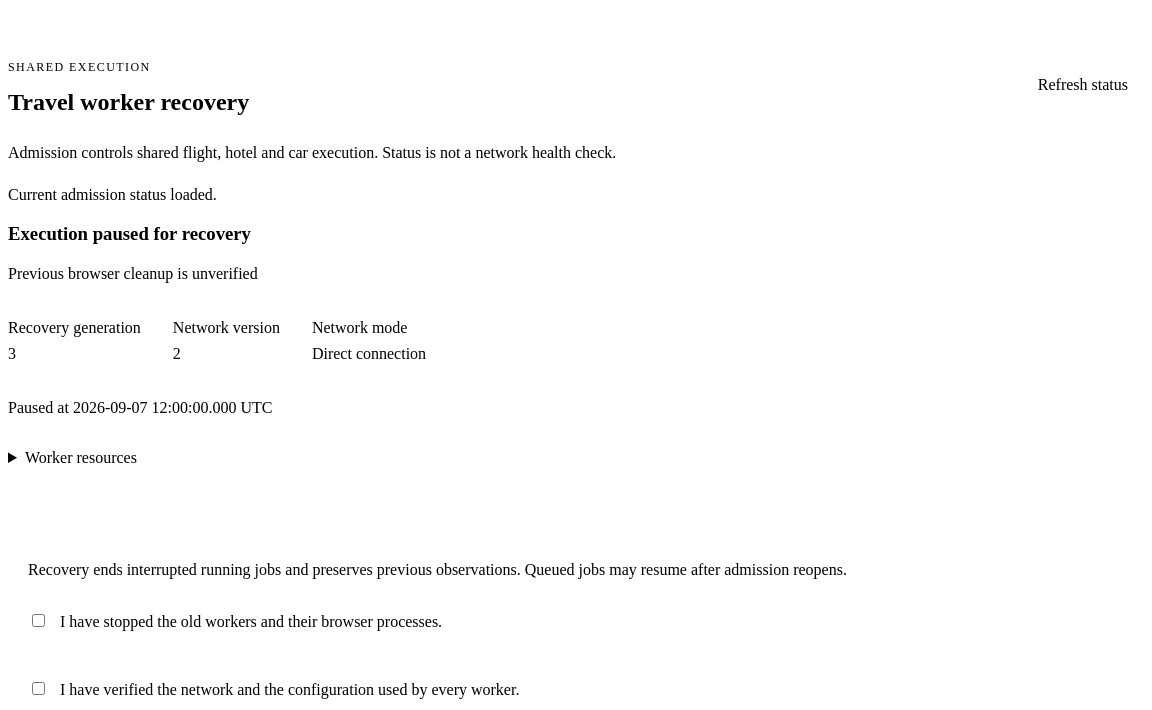
explicit administrator travel recovery › requires fresh review when recovery returns re-quarantine instead of a matching reopening
Expected: the text "Previous browser cleanup is unverified" is shown, [8,265,258,282]
What coordinates should you click on to do the following:
click the checkbox labelled "I have stopped the old workers and their browser processes."
I would click on:
 (38, 621)
Its box is [32,614,45,627].
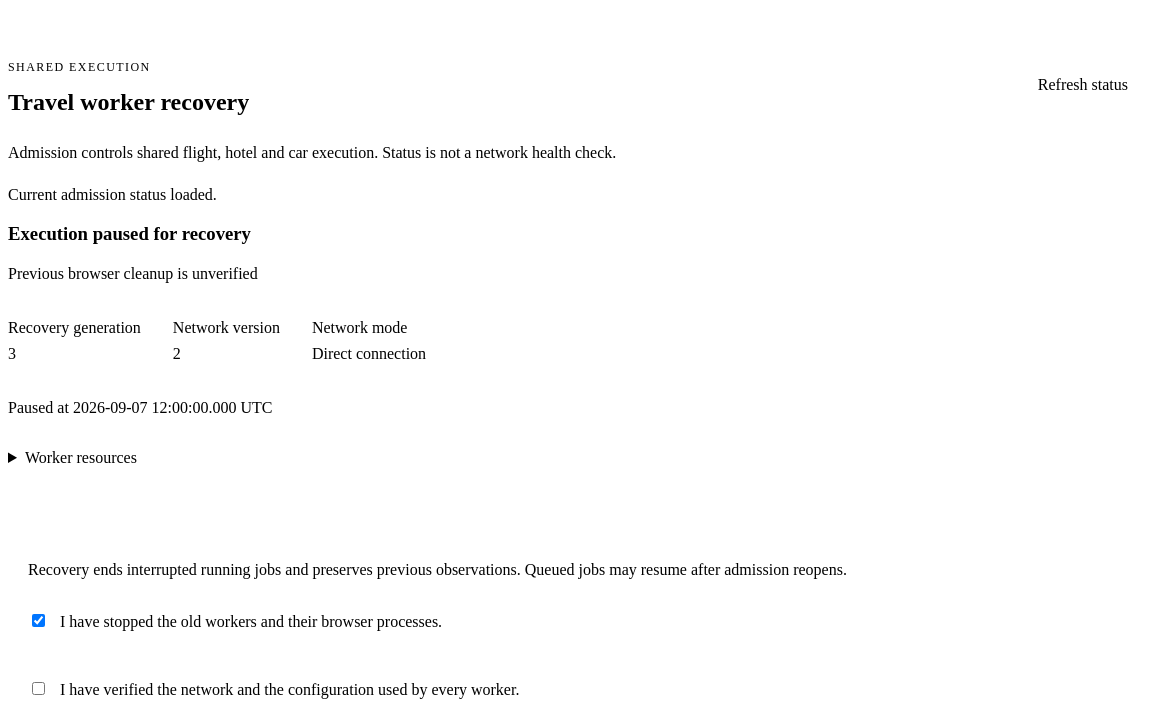
What coordinates should you click on to do the following:
click the checkbox labelled "I have verified the network and the configuration used by every worker."
I would click on:
 (38, 689)
Its box is [32,682,45,695].
(page scrolled)
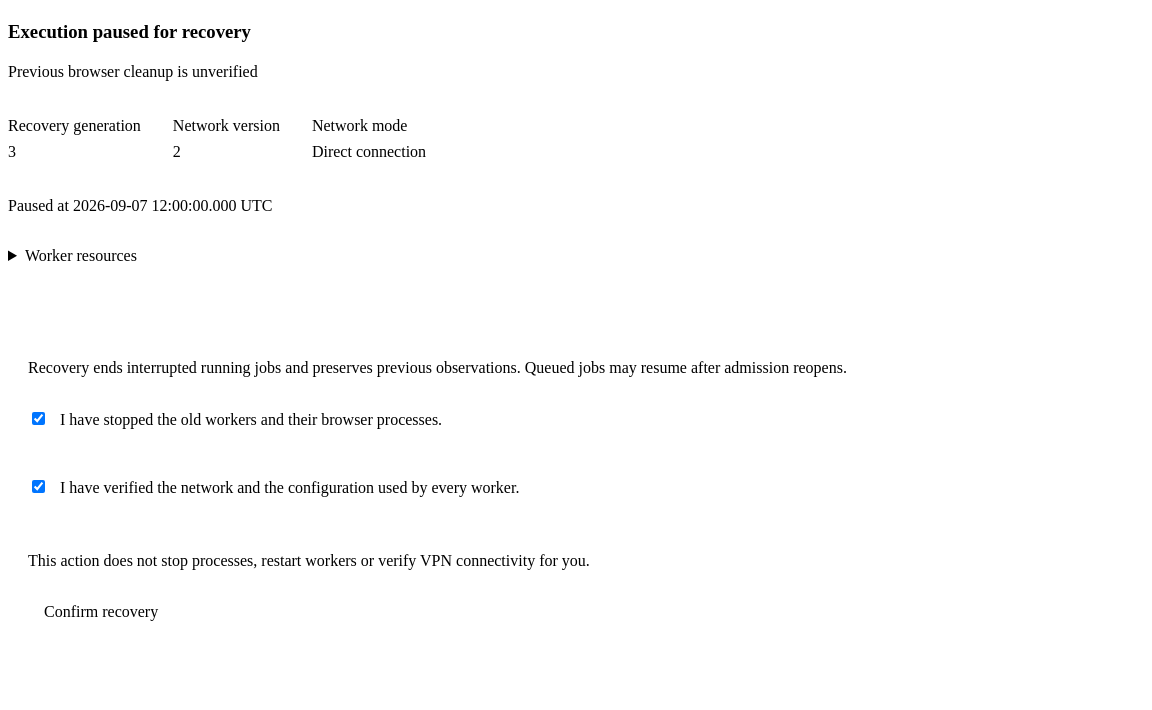
What coordinates should you click on to do the following:
click the button "Confirm recovery"
I would click on:
 (101, 612)
Its box is [28,590,174,634].
(page scrolled)
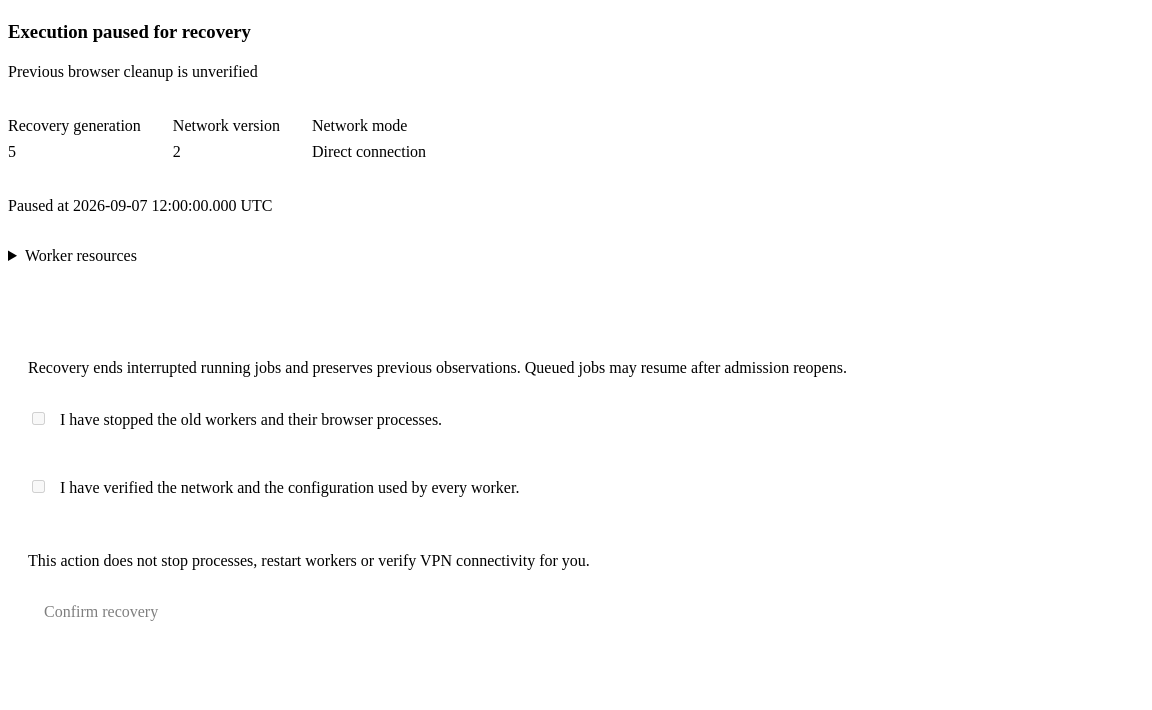
Expected: the button "Confirm recovery" is disabled, [28,590,174,634]
